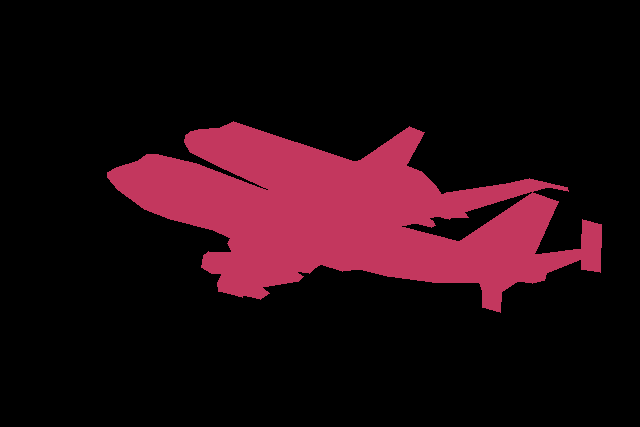Airplane: (107, 121, 602, 313)
